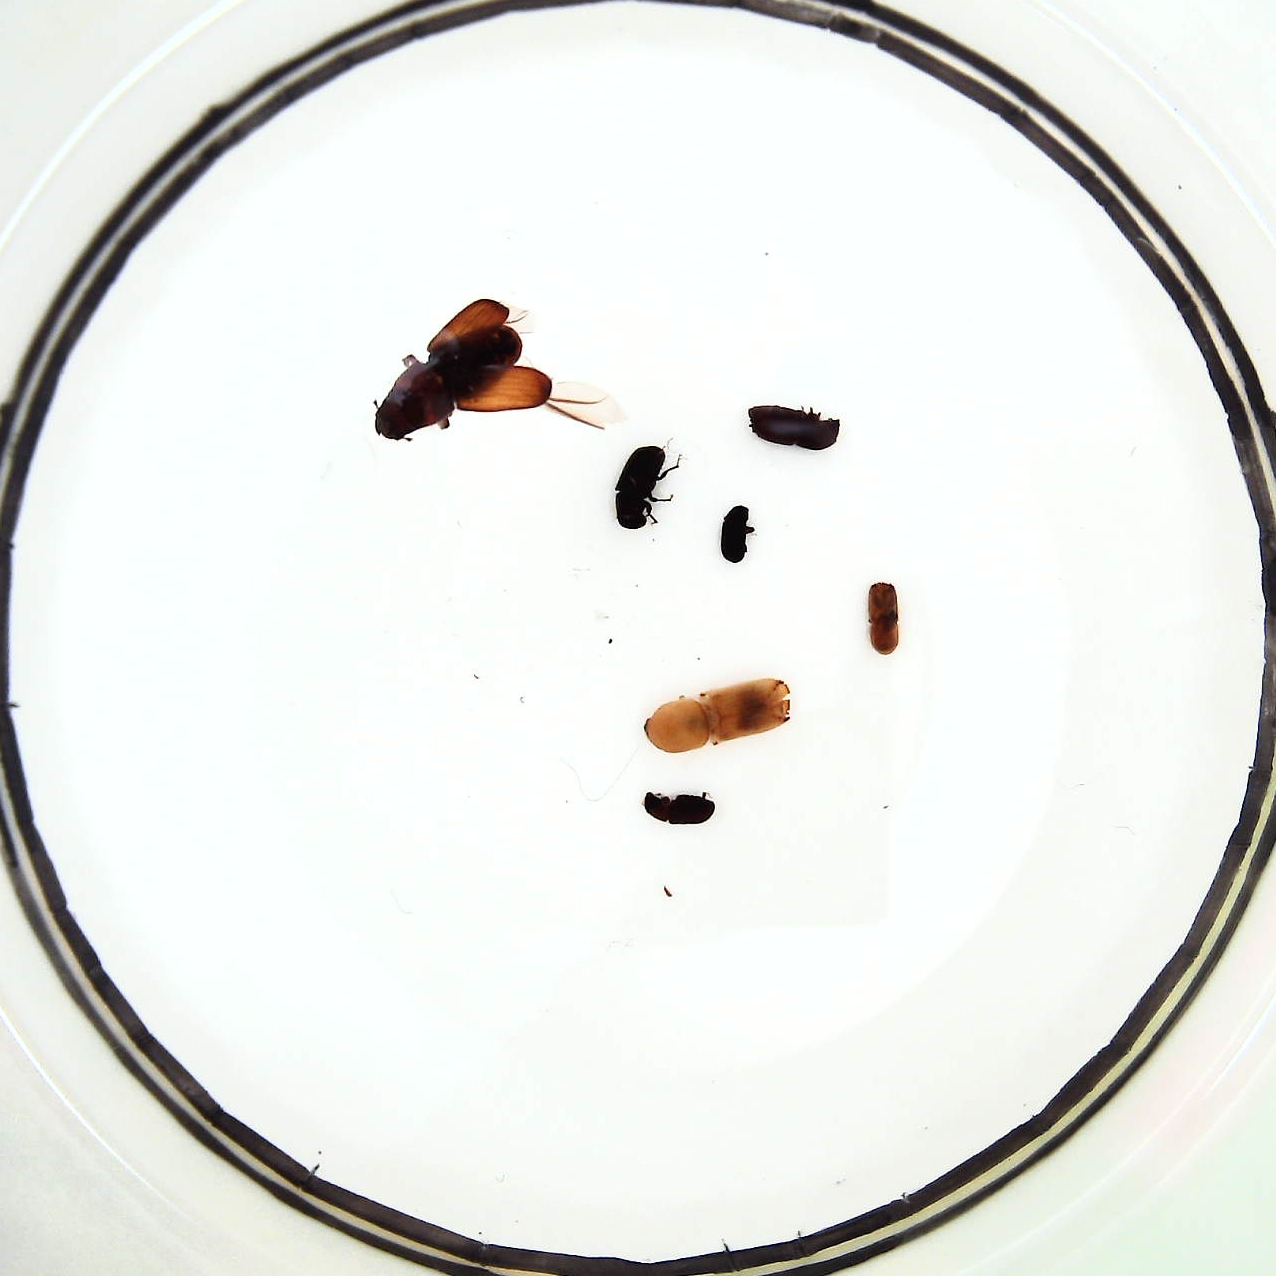Boerner: (650, 678, 798, 756)
Leconte: (376, 297, 557, 441)
Linnaeus: (742, 397, 842, 453)
acuminatus: (859, 583, 903, 651)
armandi: (618, 446, 664, 534)
coleoptera: (645, 778, 715, 827), (717, 505, 753, 556)
